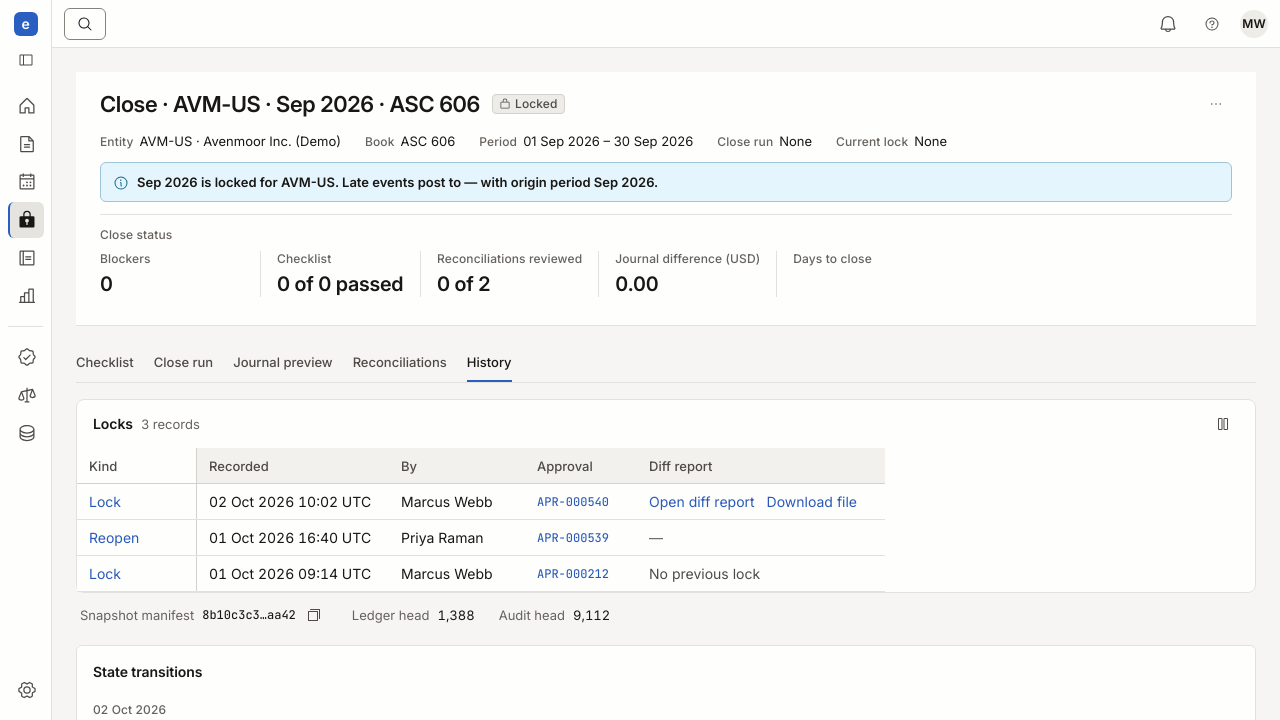
Test case: SF-05:history › a record opens in its drawer: the frozen instant, the decisions and the lock before it
The image size is (1280, 720).
Expected: the link "APR-000539" is shown, [537,530,609,546]
Click the button with aria-label "Reopen, recorded 01 Oct 2026 16:40 UTC". click: x=114, y=538
box: [89,528,139,548]
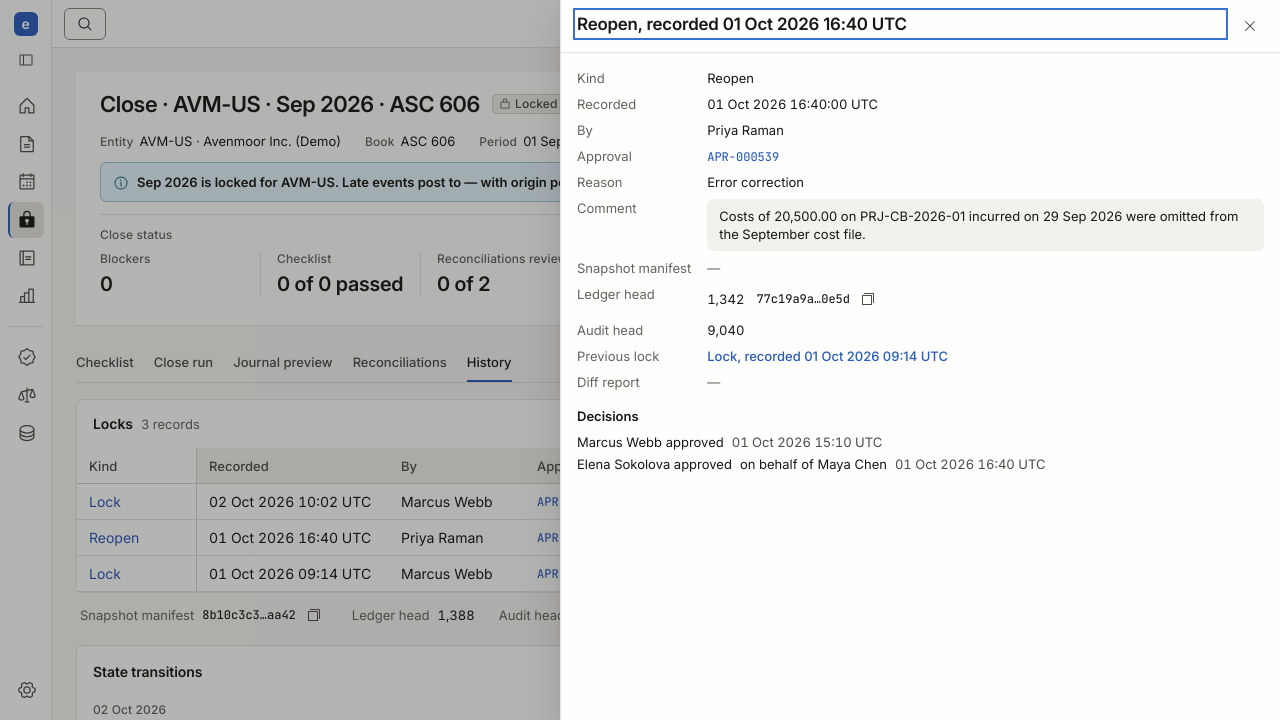
Result: the dialog "Reopen, recorded 01 Oct 2026 16:40 UTC" shows "Costs of 20,500.00 on PRJ-CB-2026-01 incurred on 29 Sep 2026 were omitted from the September cost file." at [719,208,1238,242]
Result: the link "APR-000539" is shown at [707,149,779,165]
Result: the list items read "Marcus Webb approved01 Oct 2026 15:10 UTC", "Elena Sokolova approvedon behalf of Maya Chen01 Oct 2026 16:40 UTC", in this order at [577,434,882,450]; [577,456,1046,472]
# The lock it reopened opens from "Previous lock".
Click the button "Lock, recorded 01 Oct 2026 09:14 UTC". click: x=828, y=356
box: [707,347,948,365]
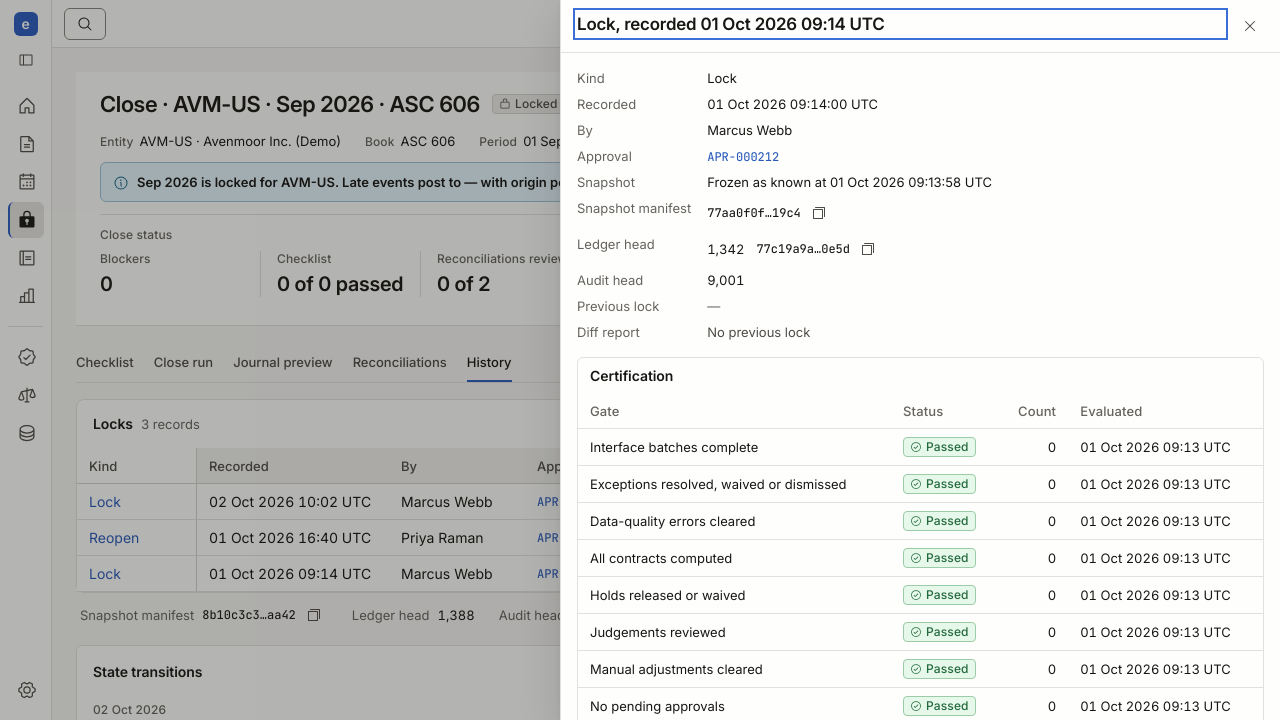
Result: the button named "Copy Snapshot manifest" is shown at [805,199,833,227]
Click the button named "Close". click: x=1250, y=26
box: [1236,12,1264,40]
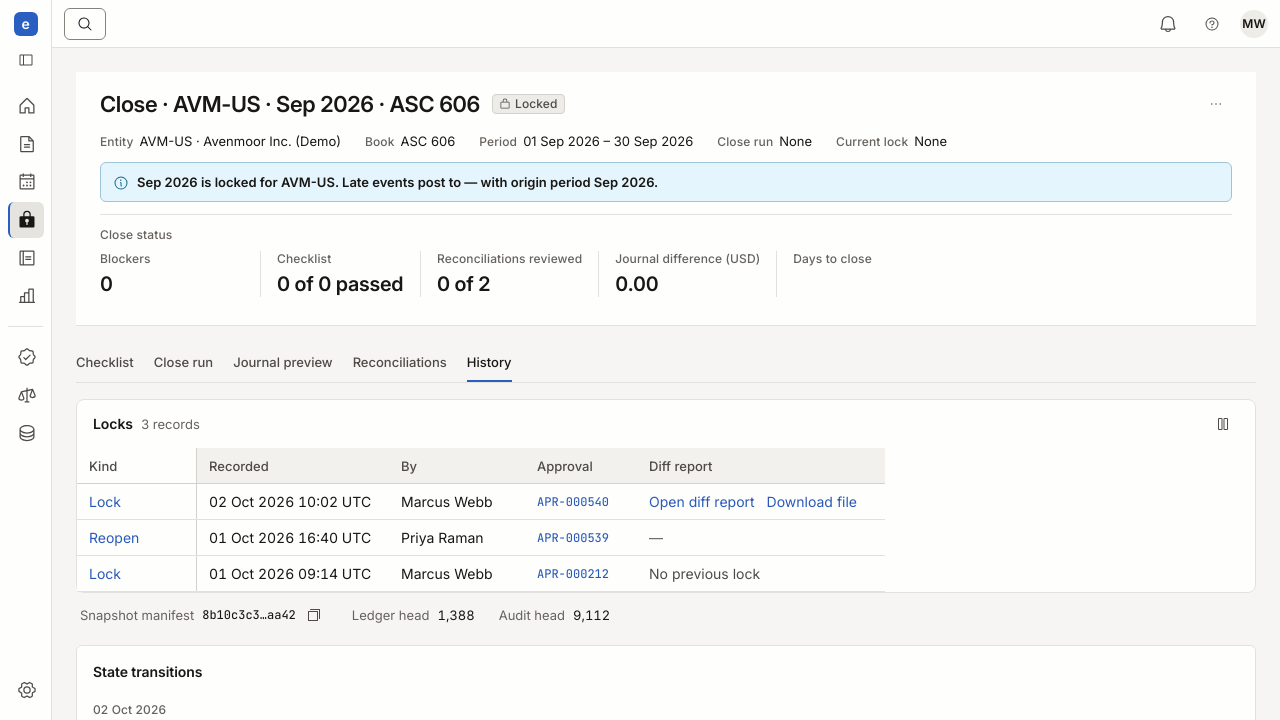
Result: the dialog is gone
